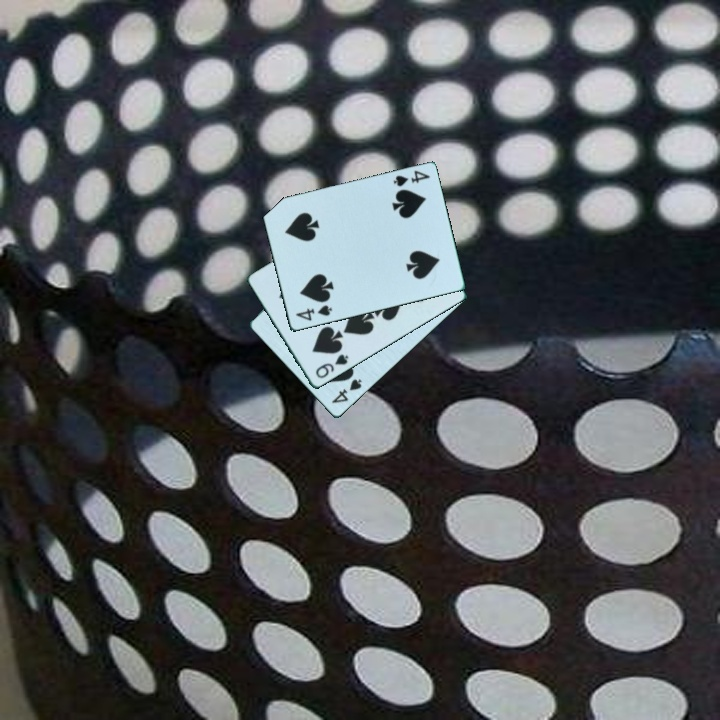4s: (328, 376, 365, 407), (390, 167, 432, 190), (292, 302, 335, 324)
9s: (312, 351, 351, 382)
